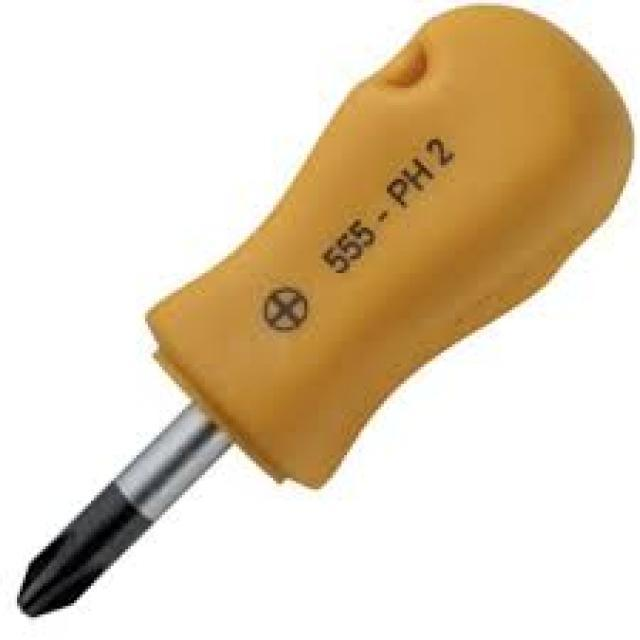screwdriver: (13, 4, 636, 619)
